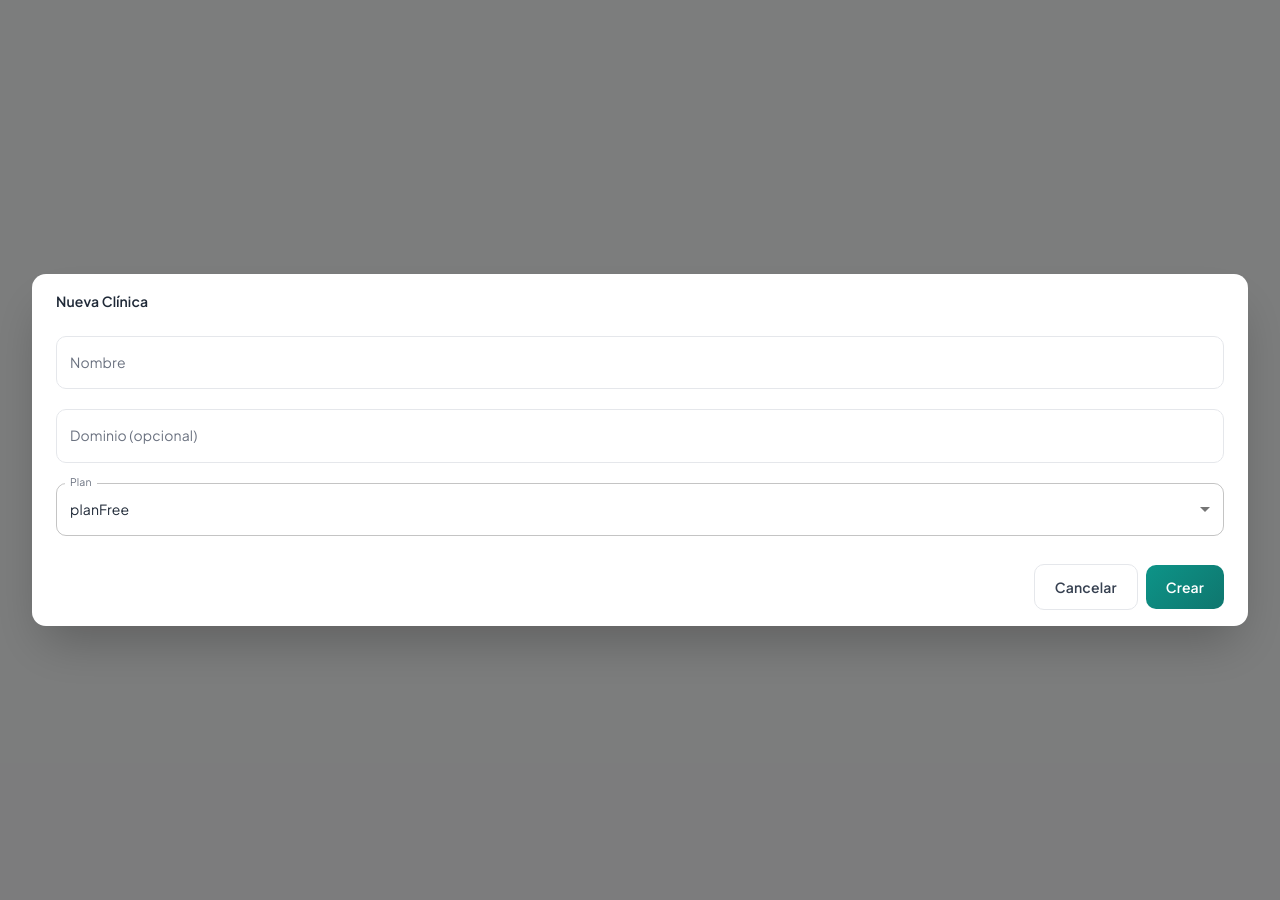
Test: TenantFormDialog › shows a validation error and does not submit when the name is too short
This screenshot has width=1280, height=900.
Type "A" into the field labelled "Nombre". click: point(640, 363)
box: [56,336,1224,389]
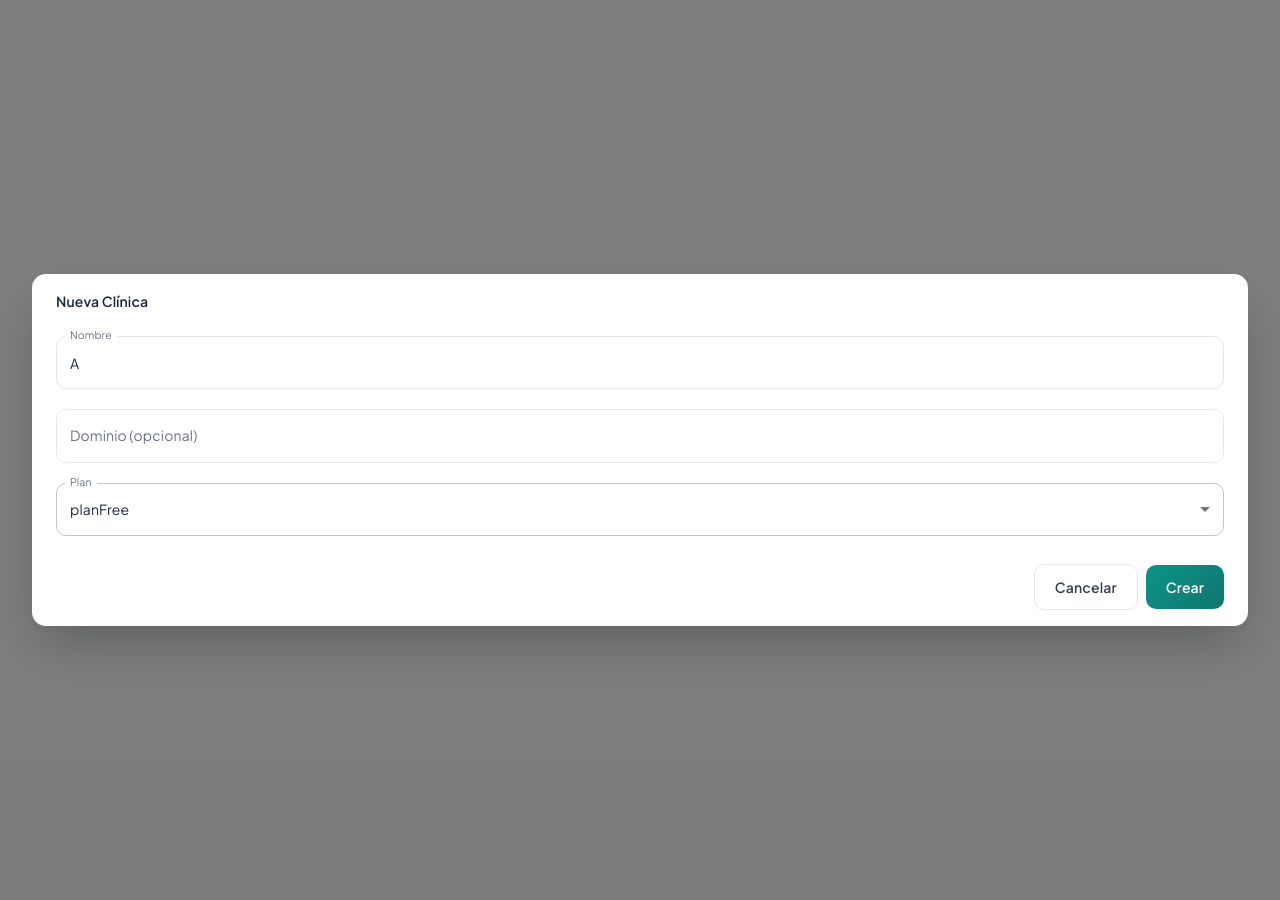
Click the button "Crear". click: point(1185, 587)
box: [1146,565,1224,609]
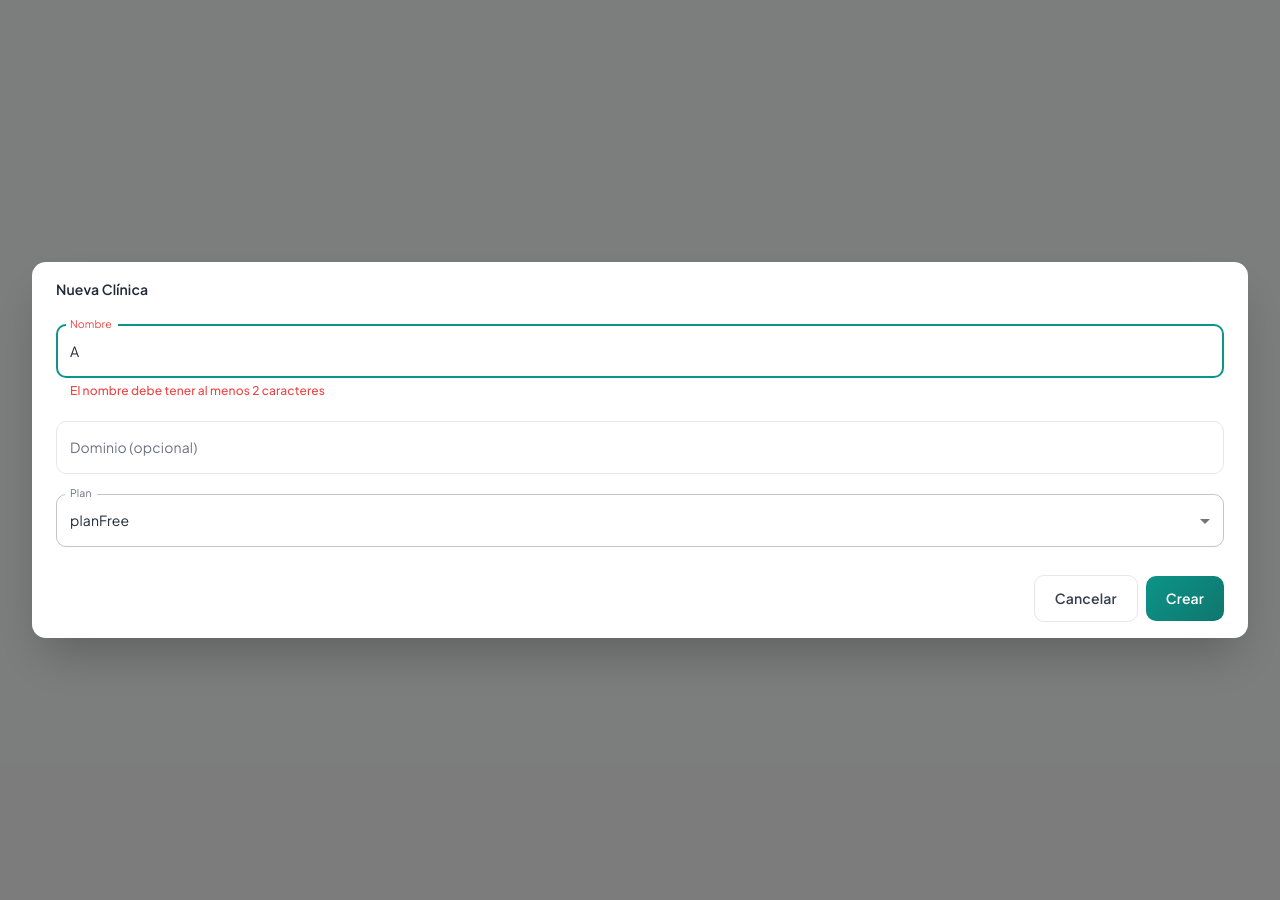
expect the text "El nombre debe tener al menos 2 caracteres" is shown: met, box [70,383,325,398]
